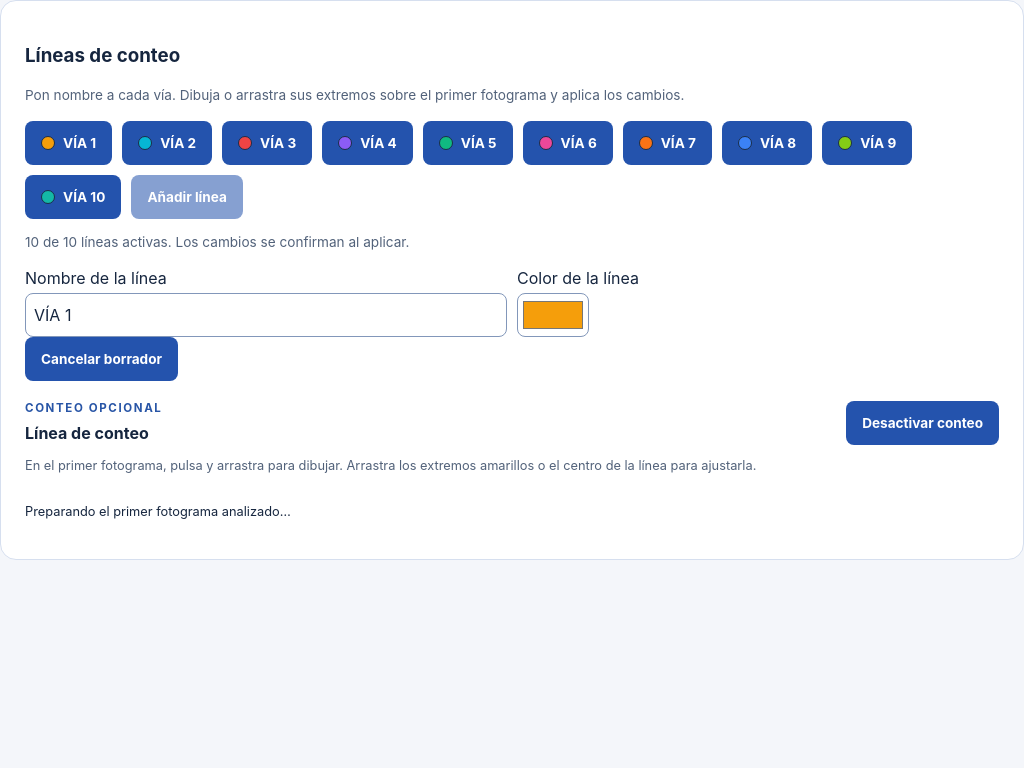
Test case: honors ten active lines and cancels metadata drafts without requests
Check: the button "Añadir línea" is disabled, box [131,175,243,219]
Replace the text in the field labelled "Nombre de la línea" with "Borrador" at [266, 315], box [25,293,507,337]
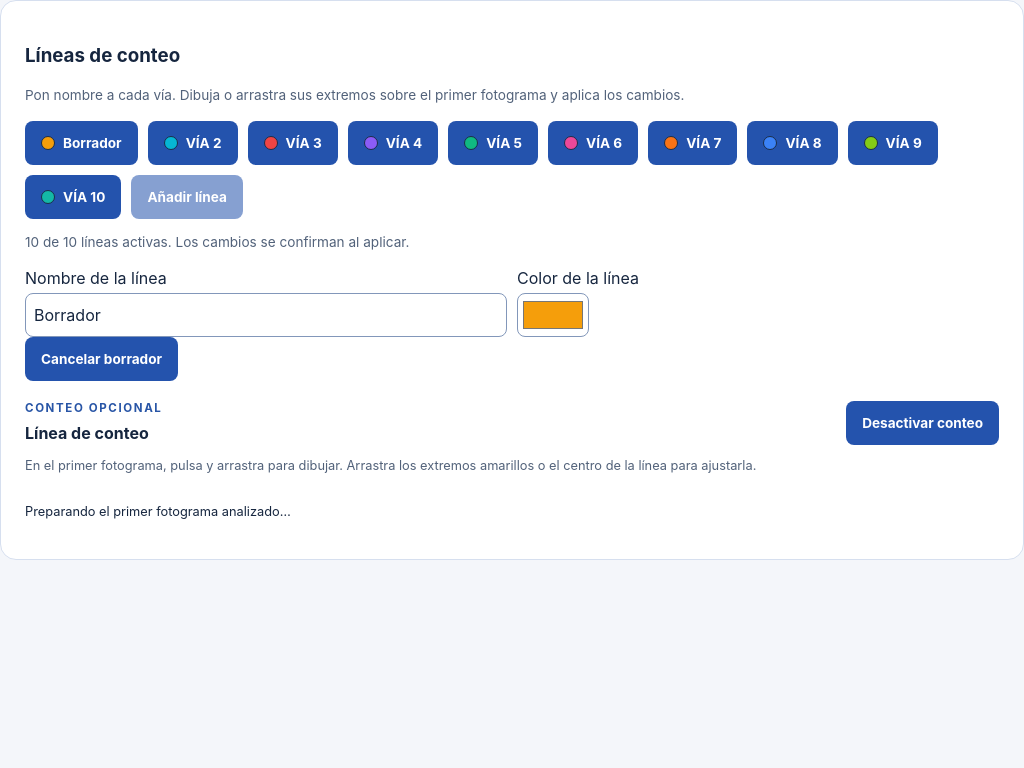
Click the button "Cancelar borrador" at [102, 359], box [25,337,178,381]
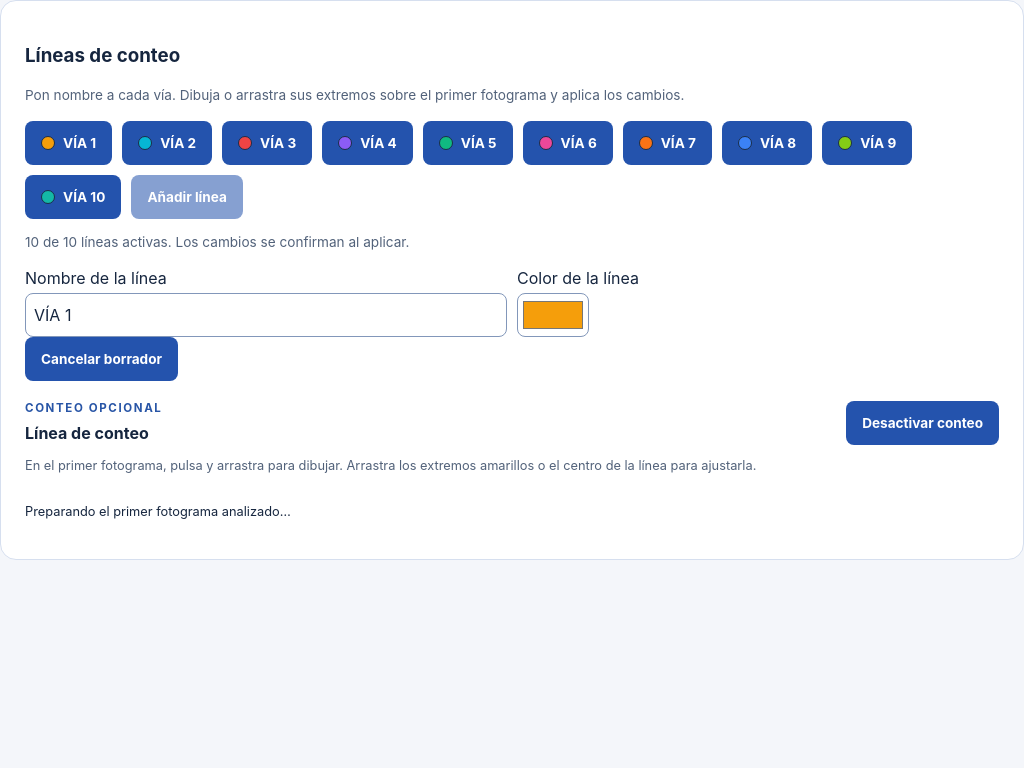
Check: the field labelled "Nombre de la línea" holds "VÍA 1", box [25,293,507,337]
